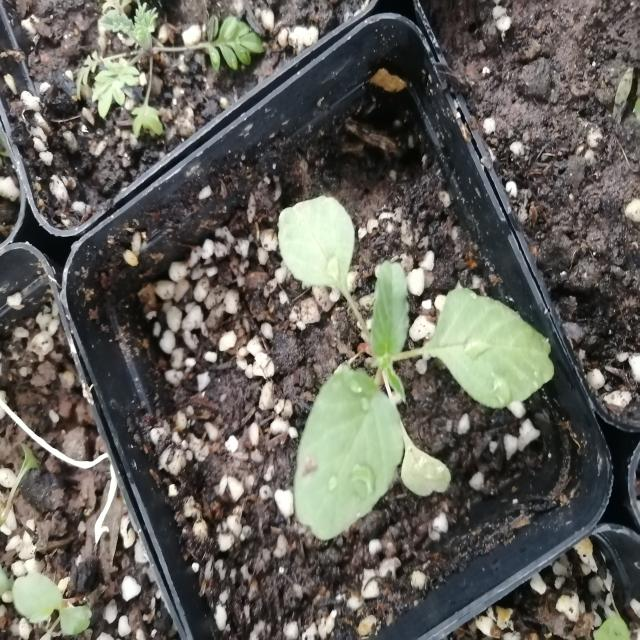pigweed: (266, 193, 550, 526)
